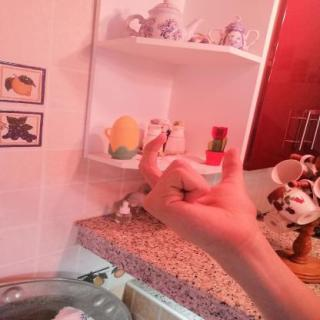NOON: (122, 126, 270, 256)
